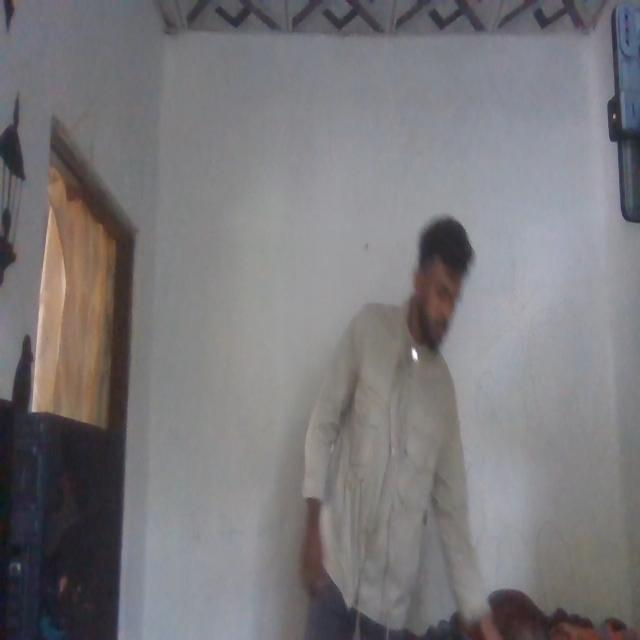Jacket_Wearer: (304, 301, 480, 623)
Person: (299, 210, 484, 640)
